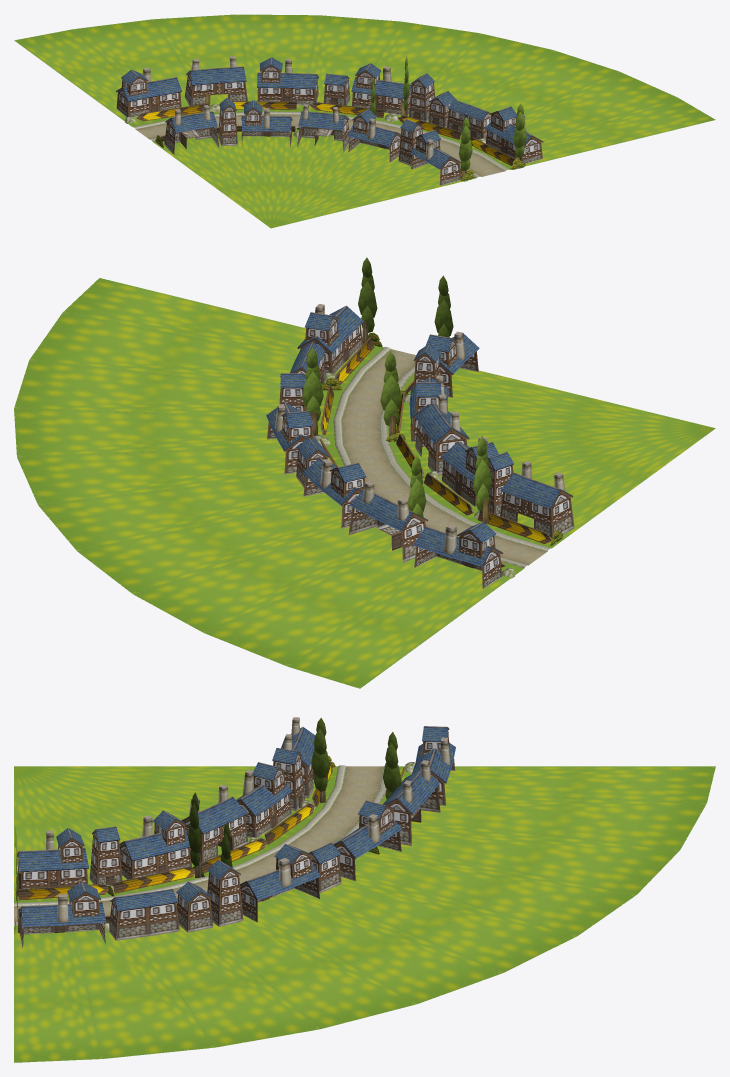
Rendered from VillageRoad02_LeftCurve.FBX.
3 renders of one model, top to bottom at view 1: azimuth 30°, elevation 25°; view 2: azimuth 150°, elevation 25°; view 3: azimuth 270°, elevation 25°, orthographic. The views are drawn at different scales.
Visible parts, largest first — view 1: Road, House (×16), Fence (×5), Tree (×2); view 2: Road, House (×15), Tree (×6), Fence; view 3: Road, House (×16), Fence (×4), Tree (×3).
Part boxes in pixels (x1,y1,x2,y2): Road: (14,14,715,228); House (×16): (116,56,543,185); Fence (×5): (136,101,515,165); Tree (×2): (458,103,526,178); Road: (14,278,715,688); House (×15): (266,304,574,588); Tree (×6): (302,257,491,523); Fence: (477,510,551,543); Road: (14,765,715,1062); House (×16): (17,717,455,948); Fence (×4): (18,803,314,900); Tree (×3): (188,717,401,877).
Size of the model in its own units: 10000 by 1390 by 10000.
